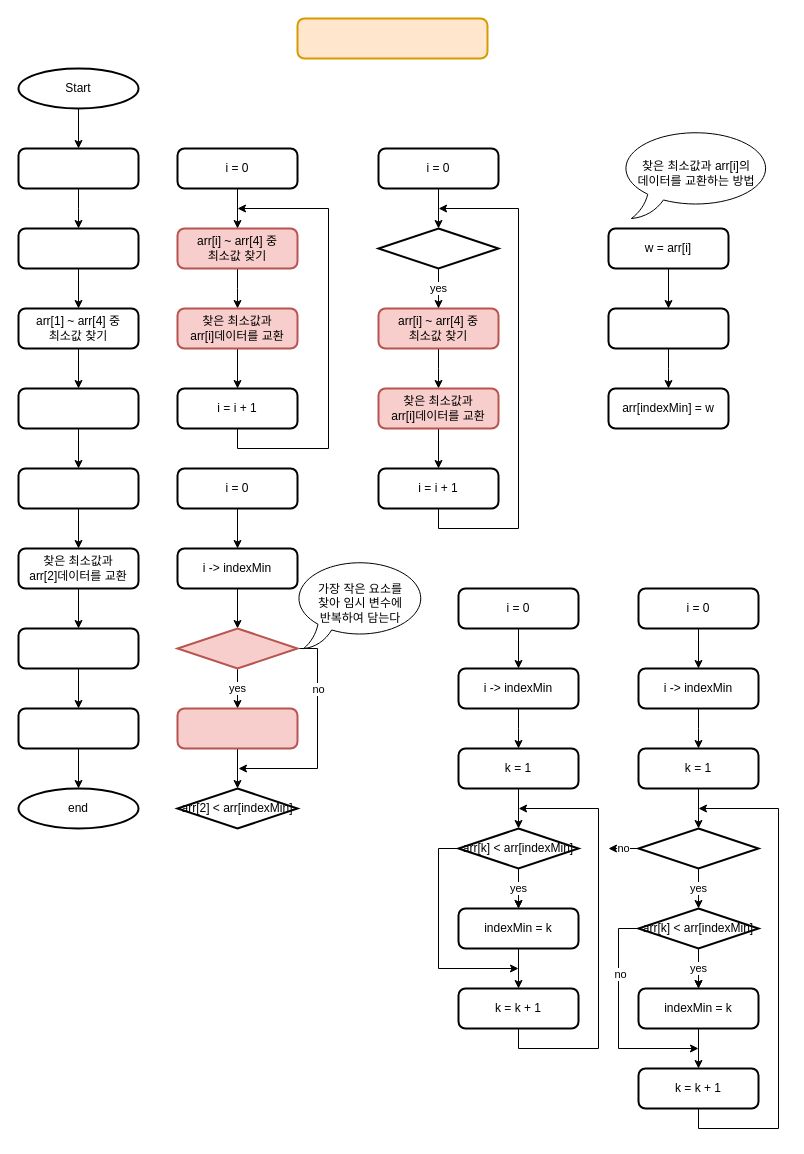
This 804x1154 diagram has some shape labels left out. The centre of each missing label's shape, as x and y in pixels:
"arr[0] ~ arr[4] 중 최소값 찾기" goes at (78,168).
"arr[1] < arr[indexMin]" goes at (237,648).
"arr[2] ~ arr[4] 중 최소값 찾기" goes at (78,488).
"arr[3] ~ arr[4] 중 최소값 찾기" goes at (78,648).
"arr[i] = arr[indexMin]" goes at (668,328).
"i < len(arr)" goes at (438,248).
"indexMin = 1" goes at (237,728).
"k < 5" goes at (698,848).
"정렬 - 단순 선택법 최종" goes at (392,38).
"찾은 최소값과 arr[0]데이터를 교환" goes at (78,248).
"찾은 최소값과 arr[1]데이터를 교환" goes at (78,408).
"찾은 최소값과 arr[3]데이터를 교환" goes at (78,728).
